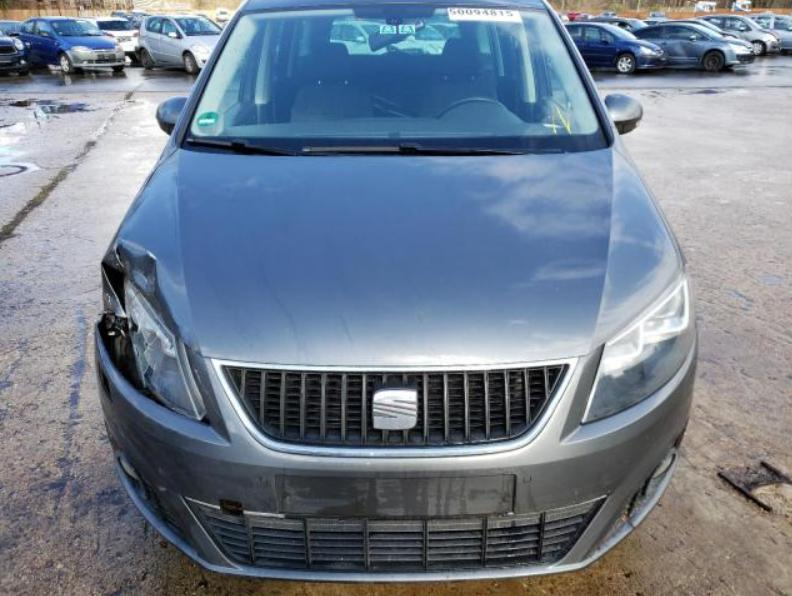Fender: (614, 135, 688, 273)
Front-bumper: (95, 324, 698, 582)
Grille: (211, 359, 579, 458)
Headlight: (96, 252, 211, 424), (581, 271, 695, 423)
Hood: (107, 147, 682, 367)
License-plate: (275, 474, 517, 515)
Mirror: (602, 94, 642, 135), (157, 97, 188, 135)
Windshield: (170, 3, 614, 156)
